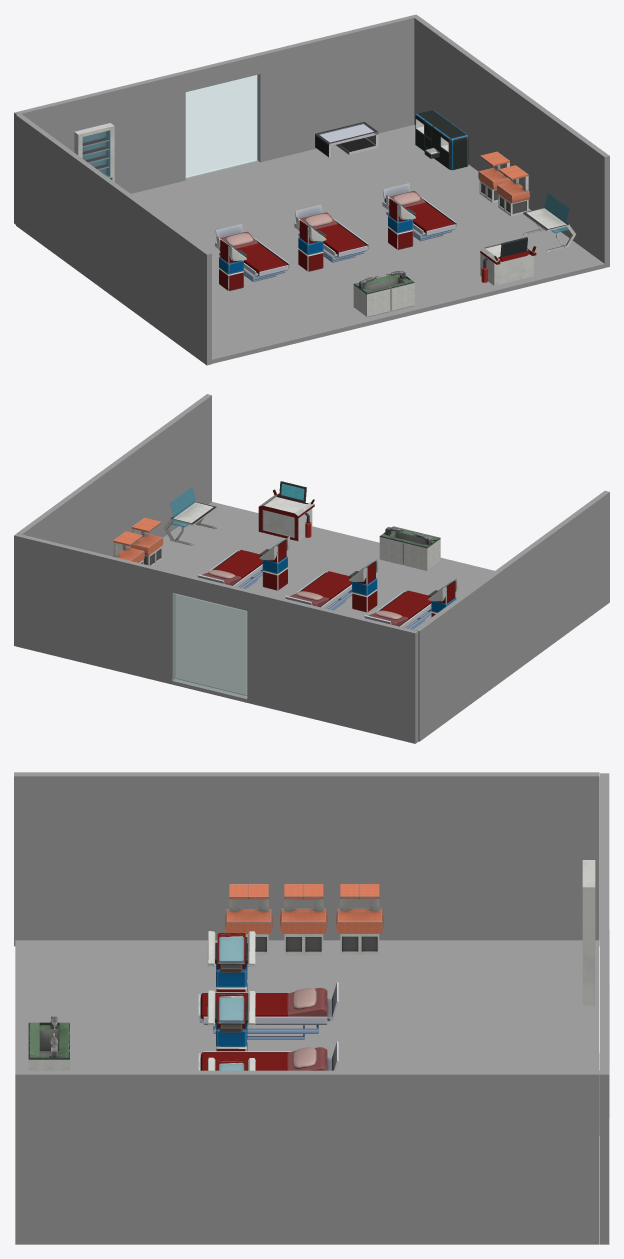
The model's file is Fase1-1.fbx.
The picture shows the model from 3 angles, top to bottom: view 1: azimuth 30°, elevation 25°; view 2: azimuth 150°, elevation 25°; view 3: azimuth 270°, elevation 25°; orthographic projection. The views are drawn at different scales.
Parts seen in each view (by area): view 1: CHAO, PAREDE_TRAS, PAREDE_L, PAREDE_R, PORTA, ARMARIO_VIDRO_2, MESA_M, MESA_C, MACA_2, MACA_1, MACA_3, ARMARIO1 (+7 smaller); view 2: PAREDE_TRAS, PAREDE_L, CHAO, PAREDE_R, PORTA, MESA_C, MESA_M, MACA_1, MACA_2, MACA_3, MESA3, HUD (+4 smaller); view 3: PAREDE_R, PAREDE_L, CHAO, PAREDE_TRAS, MACA_1, MESA_U2, MESA_U3, HUD, HUD2, MACA_2, MESA_U1, MESA_M (+1 smaller).
Part boxes in pixels (box(x1,y1,x2,y2)): CHAO: box(131, 125, 604, 363); PAREDE_TRAS: box(14, 14, 418, 224); PAREDE_L: box(16, 114, 211, 365); PAREDE_R: box(414, 16, 609, 267); PORTA: box(186, 74, 259, 178); ARMARIO_VIDRO_2: box(415, 110, 468, 170); MESA_M: box(353, 270, 414, 317); MESA_C: box(480, 237, 536, 285); MACA_2: box(294, 204, 368, 262); MACA_1: box(215, 224, 289, 281); MACA_3: box(382, 183, 456, 241); ARMARIO1: box(74, 123, 114, 181); PAREDE_TRAS: box(14, 533, 418, 743); PAREDE_L: box(414, 490, 609, 741); CHAO: box(153, 502, 494, 695); PAREDE_R: box(17, 394, 211, 556); PORTA: box(173, 593, 246, 697); MESA_C: box(258, 481, 314, 541); MESA_M: box(379, 526, 440, 570); MACA_1: box(364, 590, 431, 629); MACA_2: box(285, 571, 352, 610); MACA_3: box(197, 549, 262, 588); MESA3: box(164, 487, 216, 545); HUD: box(349, 558, 379, 612); PAREDE_R: box(15, 1070, 599, 1244); PAREDE_L: box(14, 772, 599, 946); CHAO: box(15, 940, 599, 1070); PAREDE_TRAS: box(599, 773, 609, 1244); MACA_1: box(198, 982, 338, 1039); MESA_U2: box(280, 884, 327, 955); MESA_U3: box(336, 884, 383, 954); HUD: box(207, 990, 255, 1051); HUD2: box(207, 931, 255, 991); MACA_2: box(198, 1041, 338, 1070); MESA_U1: box(225, 884, 272, 955); MESA_M: box(28, 1016, 69, 1070).
Bounding box in the file's own units: 29.29 × 7.7 × 24.41.
14 materials, 9 textured.
